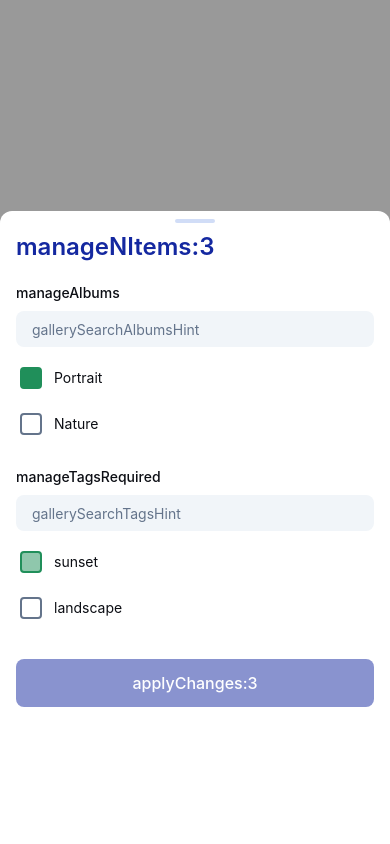
Test case: BulkManageSheet — inline album create › shows album create row when search has no exact match
In the field with test id "bulk-manage-album-search": (199, 329) 32,311 -> 366,347, type "Wildlife"
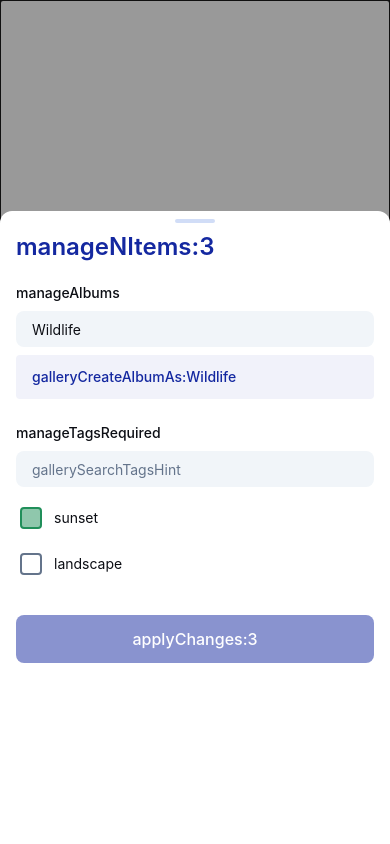
Check: the button with test id "bulk-manage-create-album" is shown, box 16,355 -> 374,399
